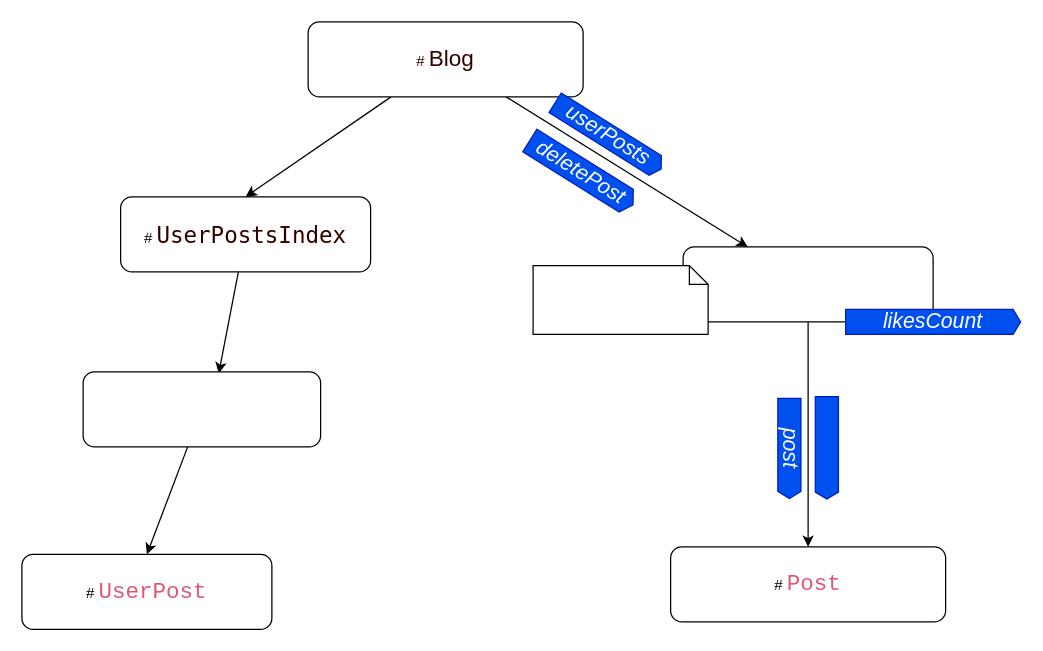
Some shapes in this 1043 by 651 pixel diagram are drawn without their labels. Each missing label, with the box of its shape:
# LatestPost: (682, 246, 933, 322)
# UserPostsList: (82, 371, 321, 447)
signIn: (814, 395, 838, 499)
signIn post: (532, 264, 708, 334)
